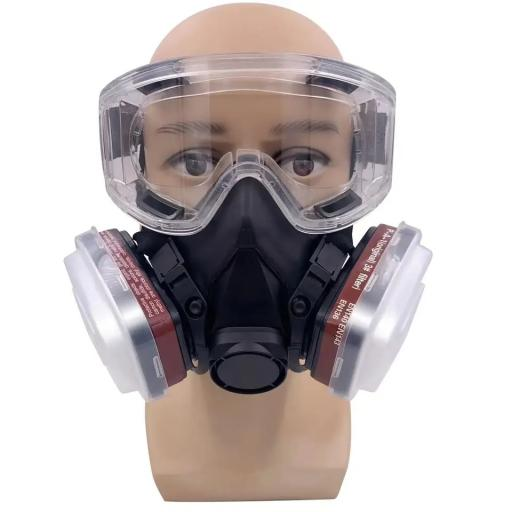mask: (50, 204, 442, 422)
